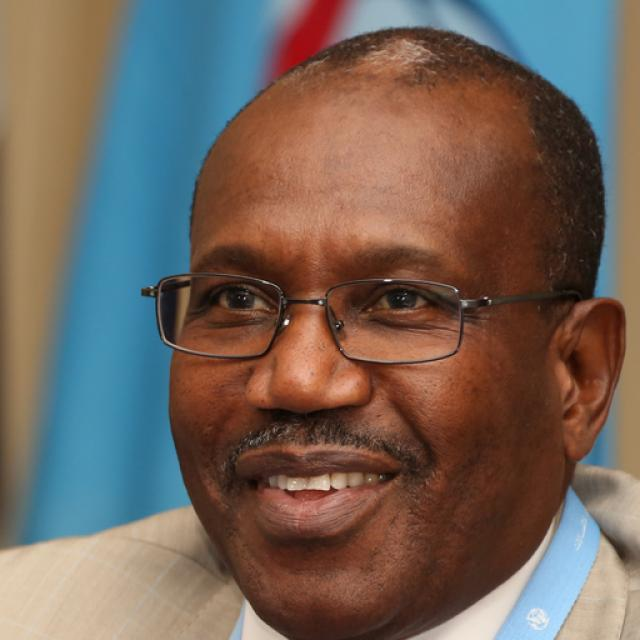happy: (172, 81, 558, 630)
